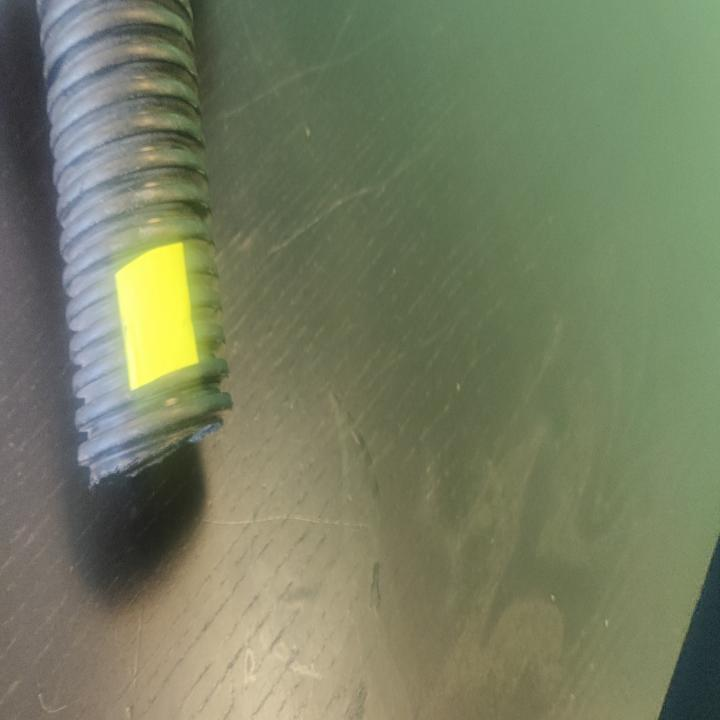robot-front: (46, 2, 217, 460)
